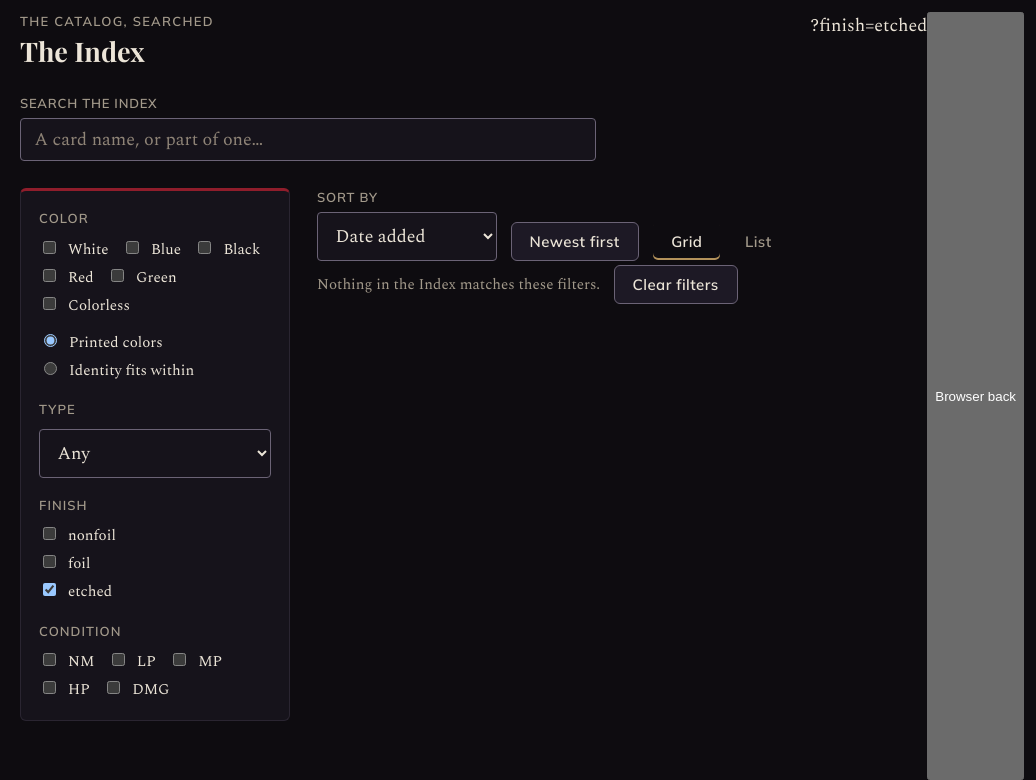
Test: IndexPage › consults the catalog instead of repeating "nothing matches" while a looser filter loads
Expected: the text "Nothing in the Index matches these filters." is shown, 317,275 -> 600,294
What coordinates should you click on to do the following:
click the checkbox labelled "etched"
I would click on:
 (50, 590)
Its box is 43,583 -> 56,596.
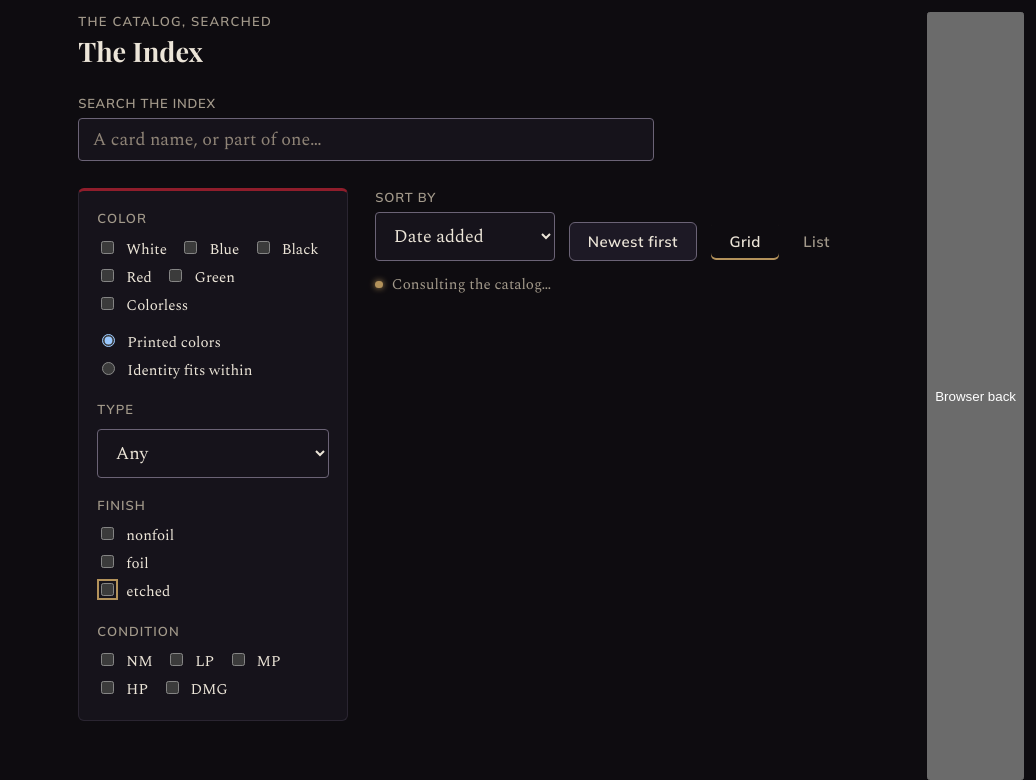
Expected: the text "Nothing in the Index matches these filters." is gone
Expected: the button "Clear filters" is gone
Expected: the text "Consulting the catalog…" is shown, 392,275 -> 551,294
